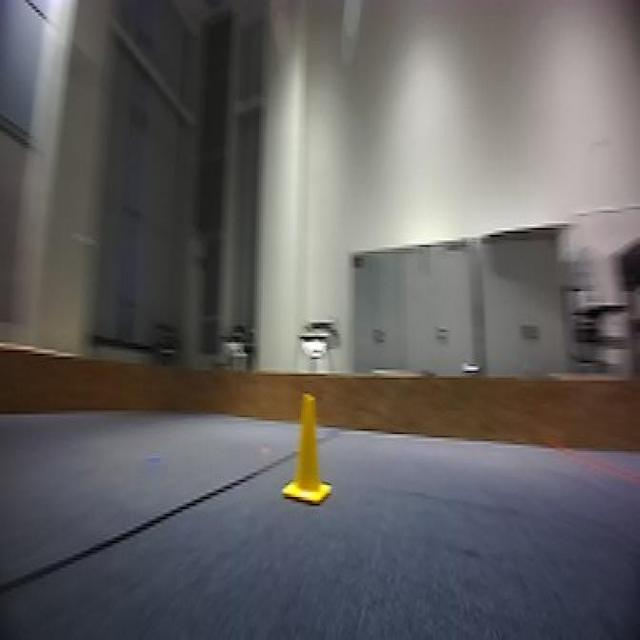frc_cone: (285, 397, 332, 512)
